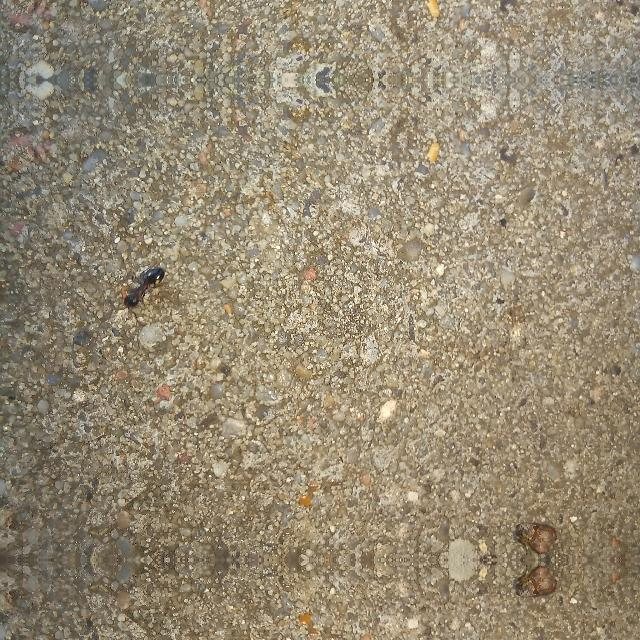Dolichoderus: (111, 257, 177, 315)
